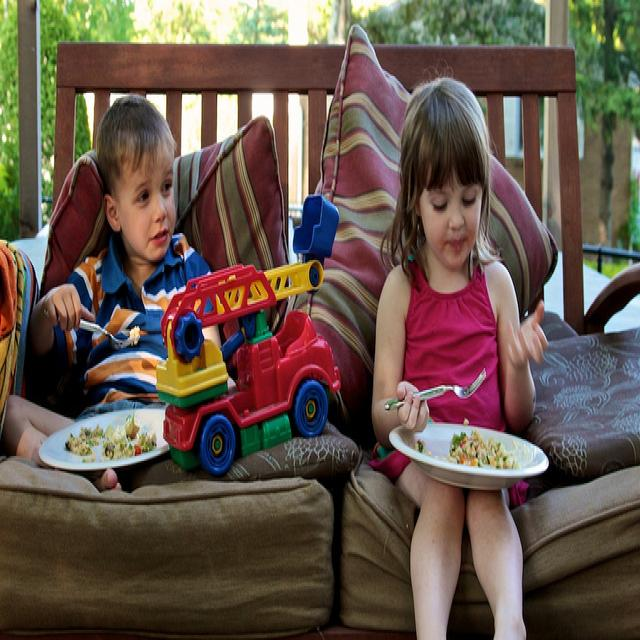Vehicle: (158, 197, 342, 475)
